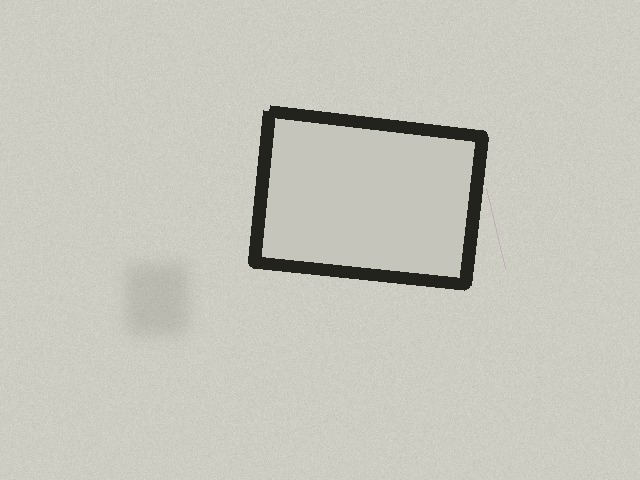parking_area: (254, 111, 482, 284)
